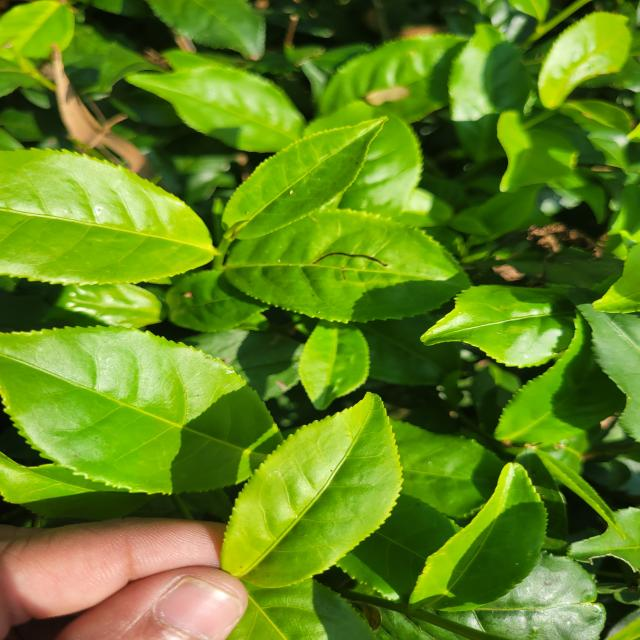Catagory A(1-2 days): (208, 388, 433, 596)
